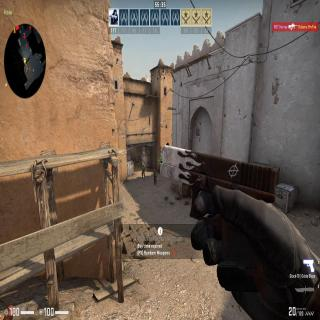CT-Body: (141, 164, 145, 178), (154, 170, 156, 184)
CT-Head: (142, 163, 144, 166), (154, 169, 156, 172)
